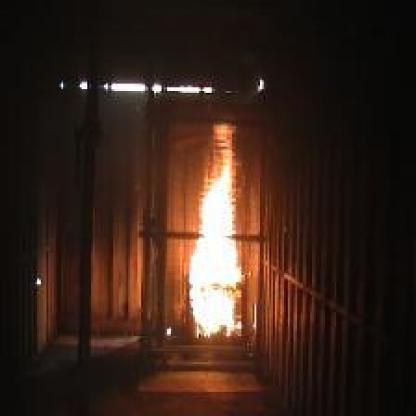fire: (180, 119, 244, 336)
other: (52, 74, 268, 96), (33, 272, 43, 286)
